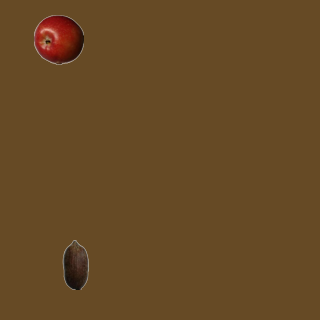Apple Braeburn: (33, 14, 83, 64)
Nut Pecan: (50, 239, 100, 289)
